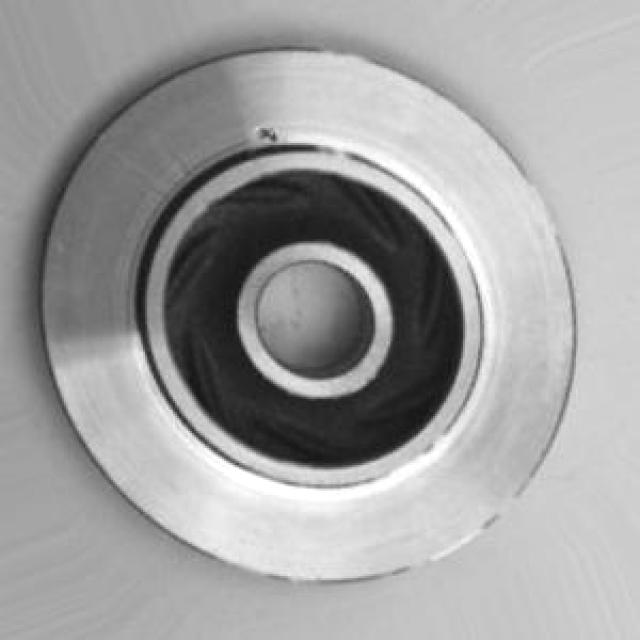Defect: (258, 123, 284, 145)
